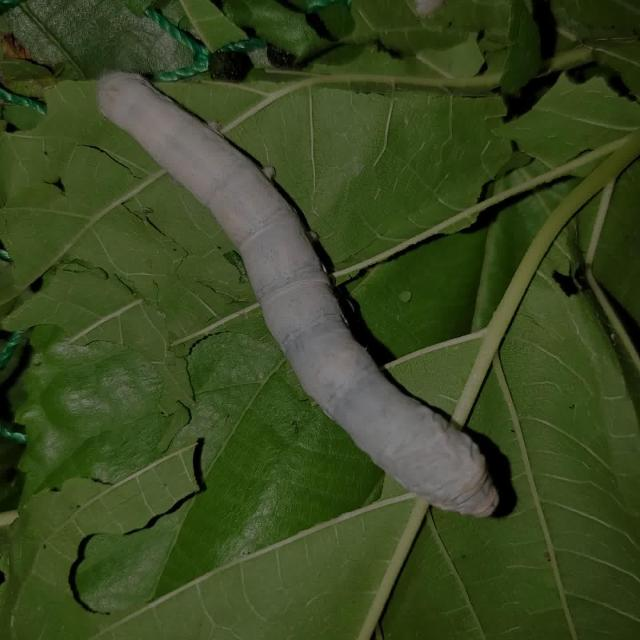Healthy: (80, 39, 519, 540)
